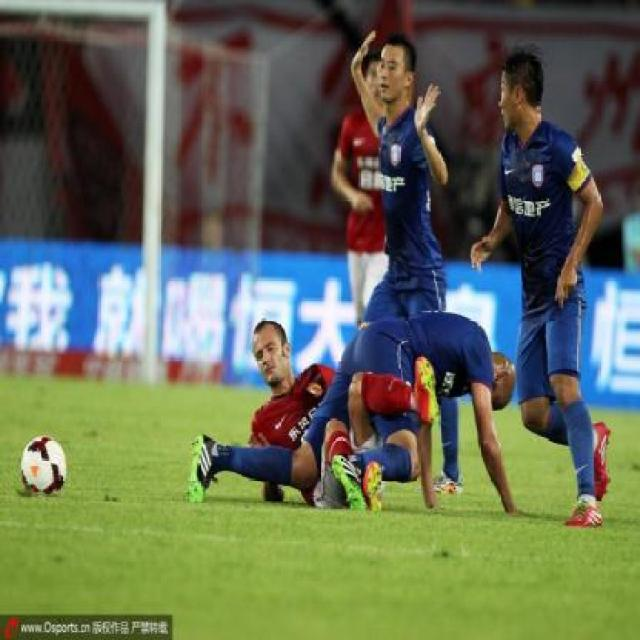fall: (194, 303, 509, 512)
